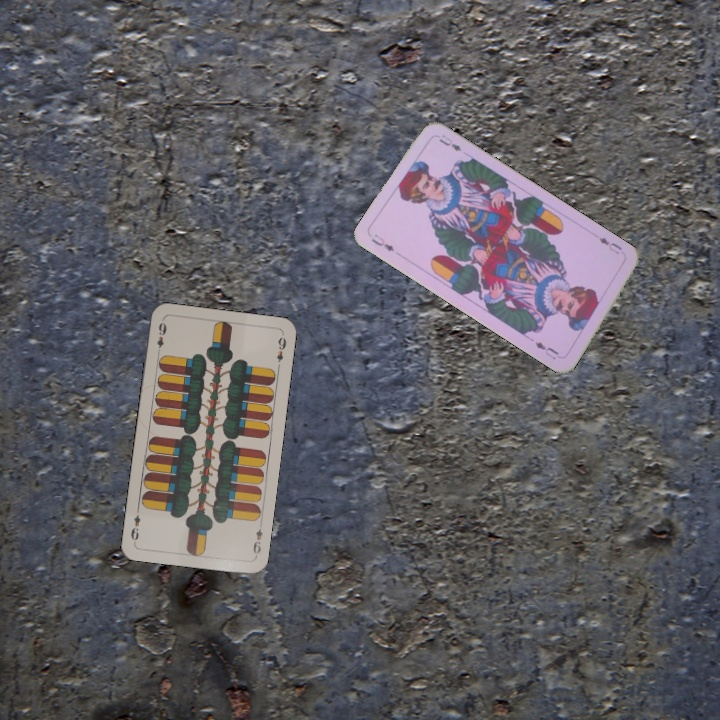E9: (249, 519, 265, 559), (153, 319, 169, 357)
EU: (594, 233, 624, 257), (367, 230, 397, 254)
